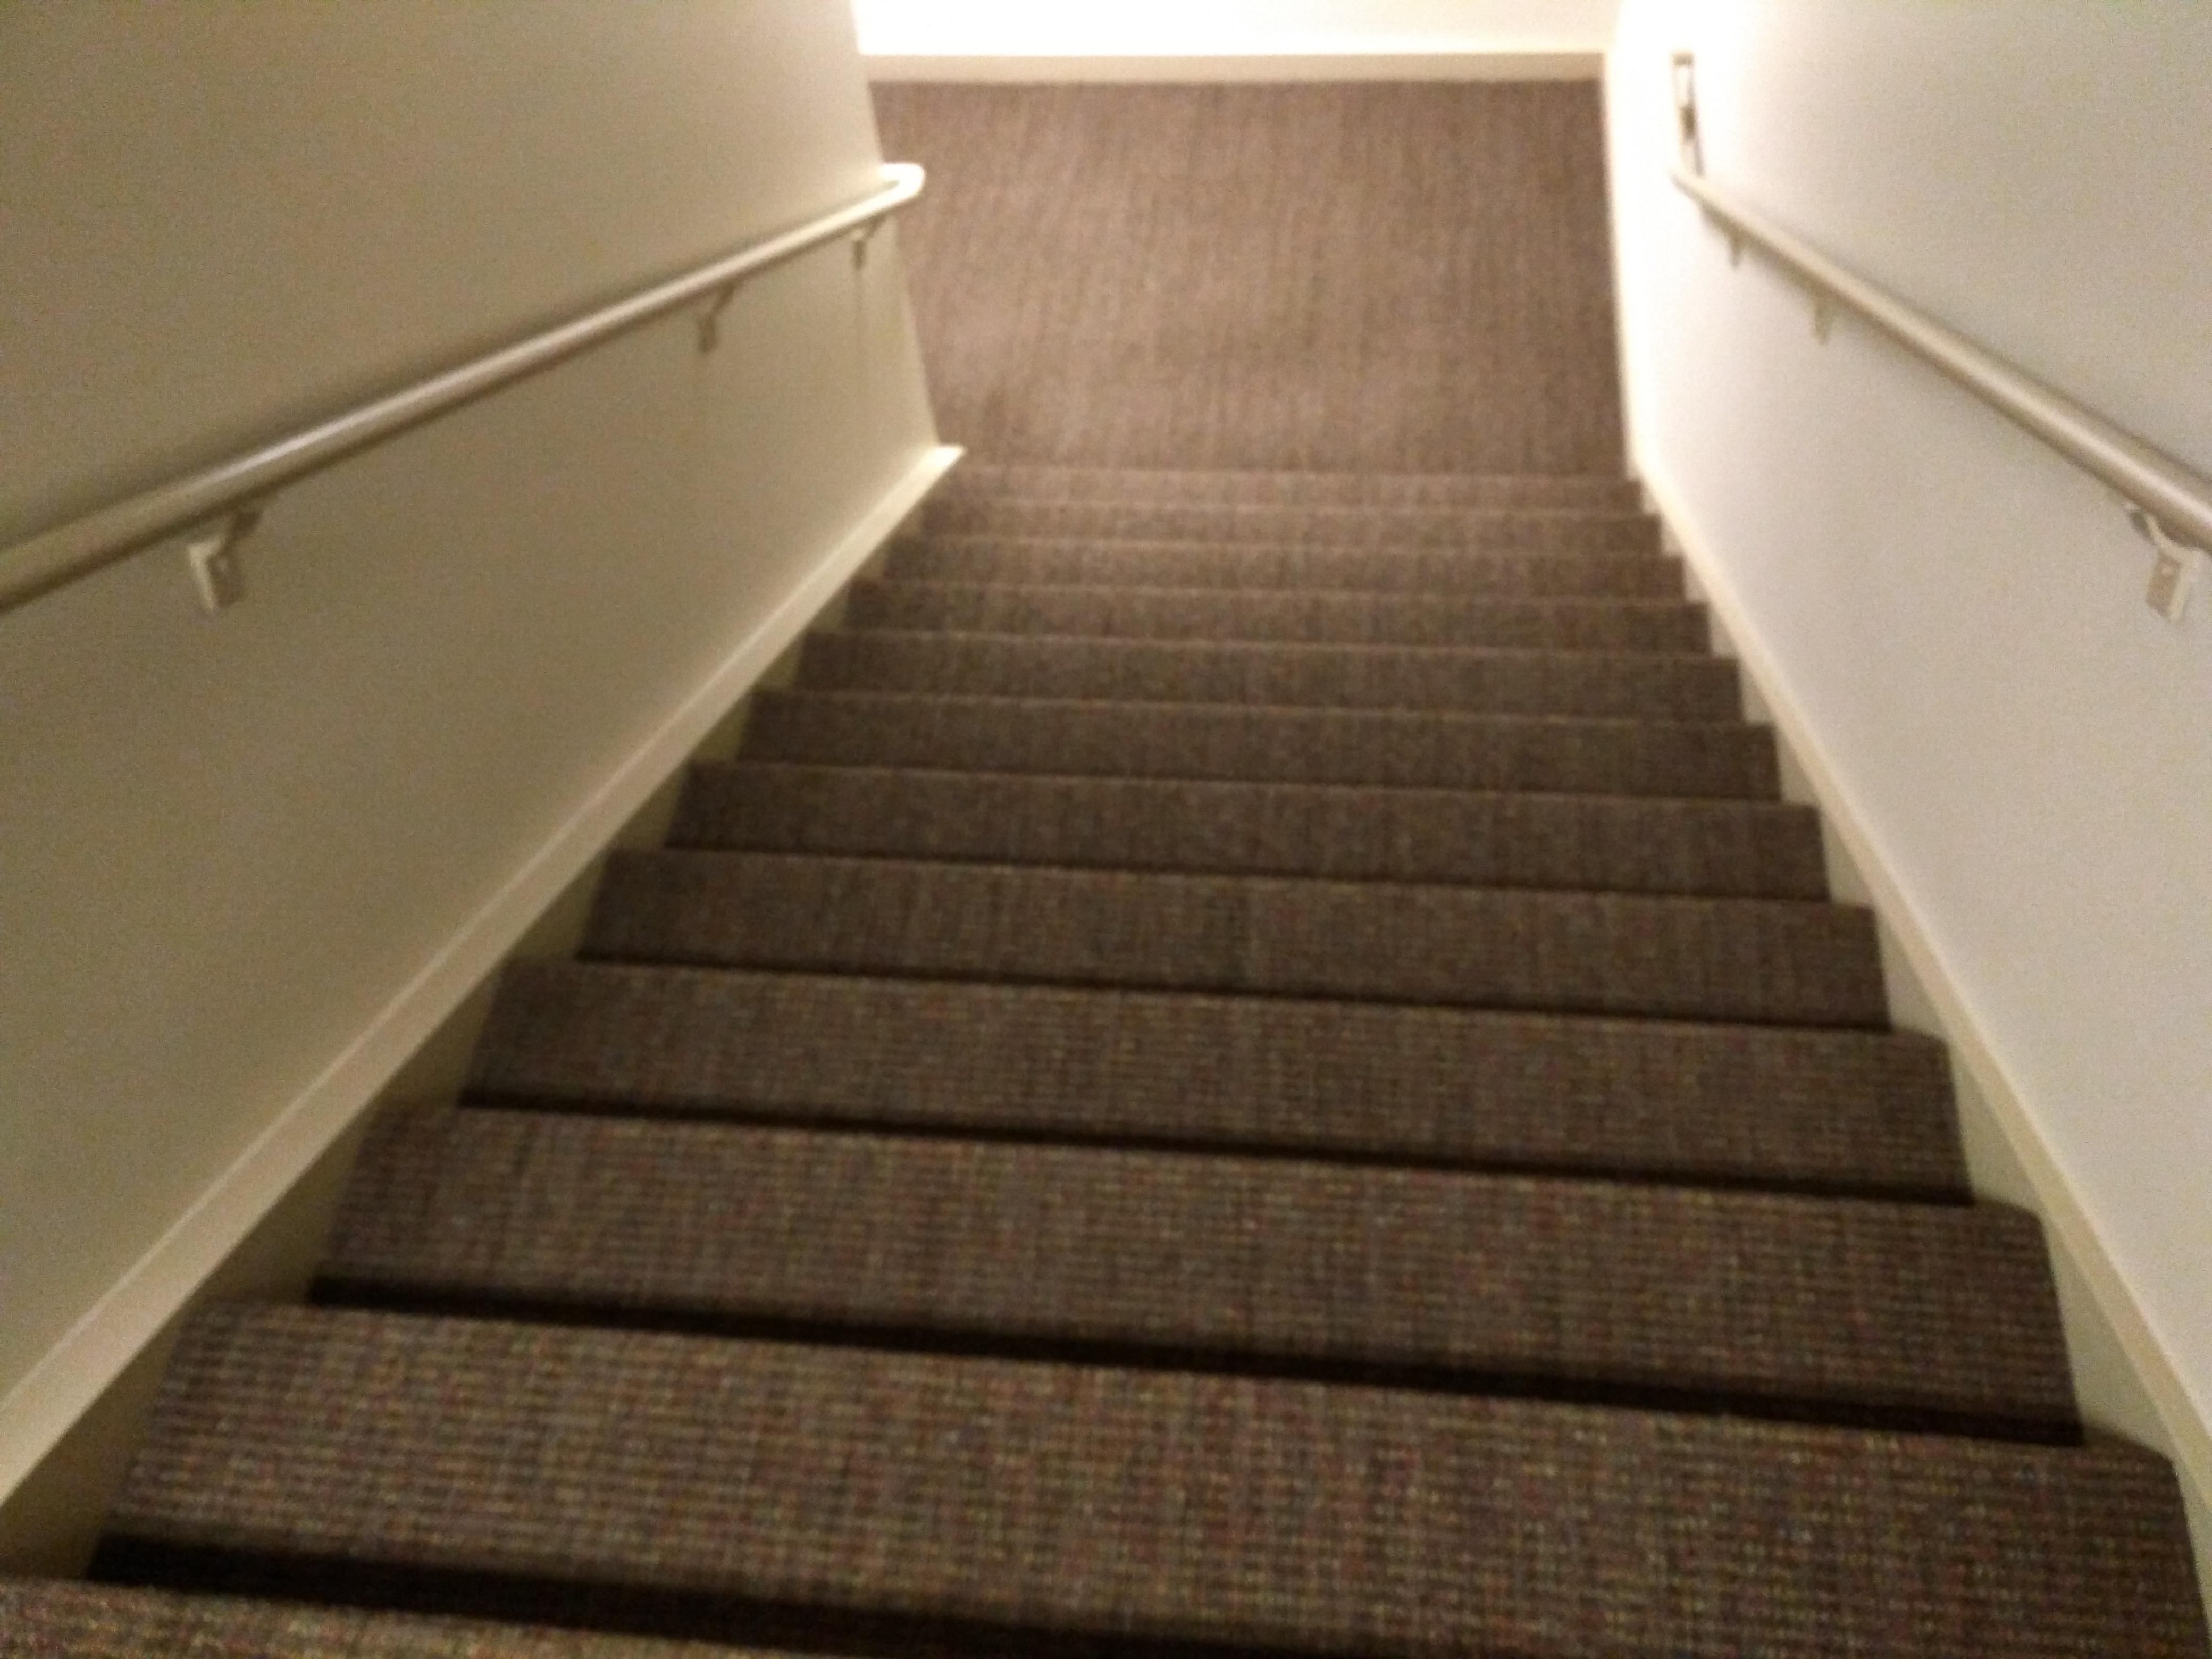stairs_down: (78, 453, 2172, 1603)
